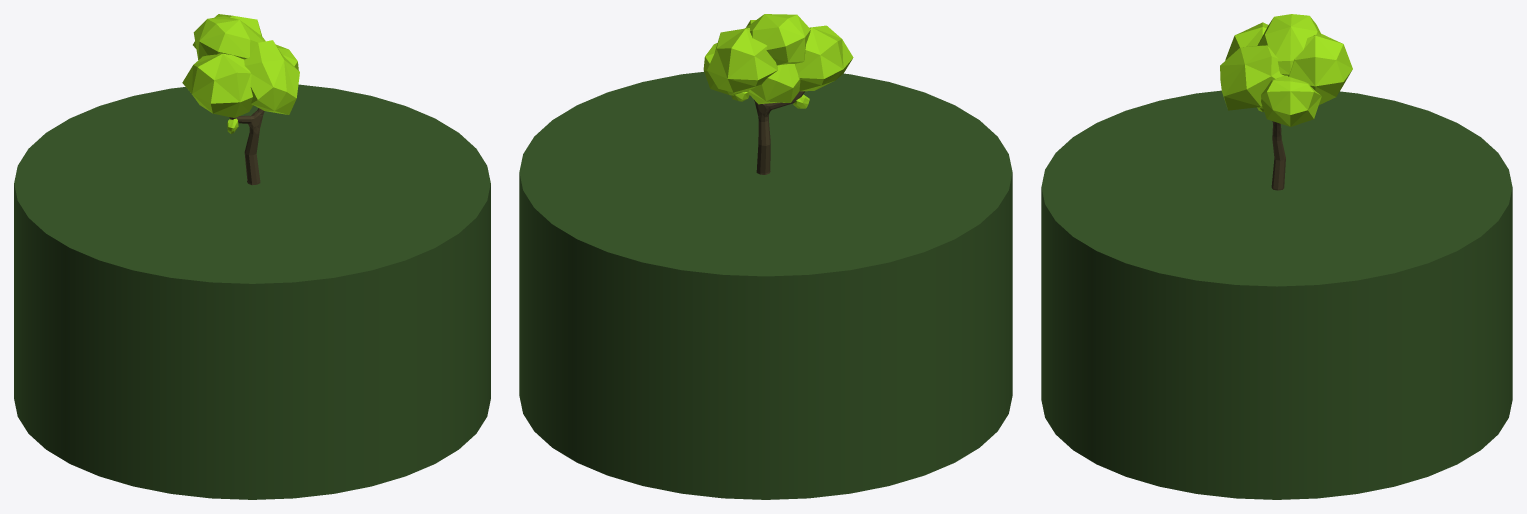
The model's file is TheTree.fbx.
3 renders of one model, left to right at view 1: azimuth 30°, elevation 25°; view 2: azimuth 150°, elevation 25°; view 3: azimuth 270°, elevation 25°, orthographic. The views are drawn at different scales.
Parts seen in each view (by area): view 1: Cylinder, Cube_001, Cube_005, Cube_008_2, Cube_001_2, Vert, Cube_005_2, Cube_008_4; view 2: Cylinder, Cube_004, Cube_001, Cube_008_2, Cube_008, Vert, Cube_004_2, Cube_001_2, Cube_008_4; view 3: Cylinder, Cube_005, Cube_004, Cube, Cube_008_2, Cube_005_2, Cube_004_2, Vert, Cube_2, Cube_001, Cube_008_4.
Part boxes in pixels (x1,y1,x2,y2): Cylinder: (14, 84, 490, 499); Cube_001: (182, 53, 253, 117); Cube_005: (244, 40, 299, 114); Cube_008_2: (194, 16, 265, 59); Cube_001_2: (182, 53, 252, 117); Vert: (229, 108, 264, 185); Cube_005_2: (245, 41, 298, 114); Cube_008_4: (194, 16, 263, 58); Cylinder: (519, 72, 1012, 499); Cube_004: (707, 28, 777, 92); Cube_001: (795, 25, 853, 91); Cube_008_2: (745, 14, 810, 65); Cube_008: (747, 64, 800, 104); Vert: (754, 91, 804, 174); Cube_004_2: (708, 28, 777, 91); Cube_001_2: (795, 26, 851, 90); Cube_008_4: (747, 14, 809, 63); Cylinder: (1041, 90, 1512, 499); Cube_005: (1220, 45, 1283, 110); Cube_004: (1288, 33, 1352, 104); Cube: (1261, 75, 1321, 126); Cube_008_2: (1257, 14, 1320, 75); Cube_005_2: (1220, 46, 1282, 110); Cube_004_2: (1289, 34, 1351, 104); Vert: (1271, 121, 1285, 190); Cube_2: (1261, 76, 1320, 125); Cube_001: (1225, 22, 1268, 60); Cube_008_4: (1258, 14, 1319, 74).
Bounding box in the file's own units: 8180 × 7138 × 8180.
3 materials, 3 textured.
